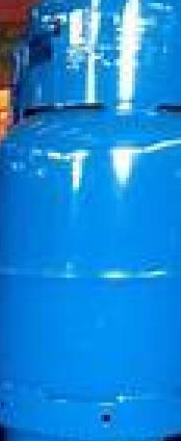cylinder: (1, 1, 181, 441)
